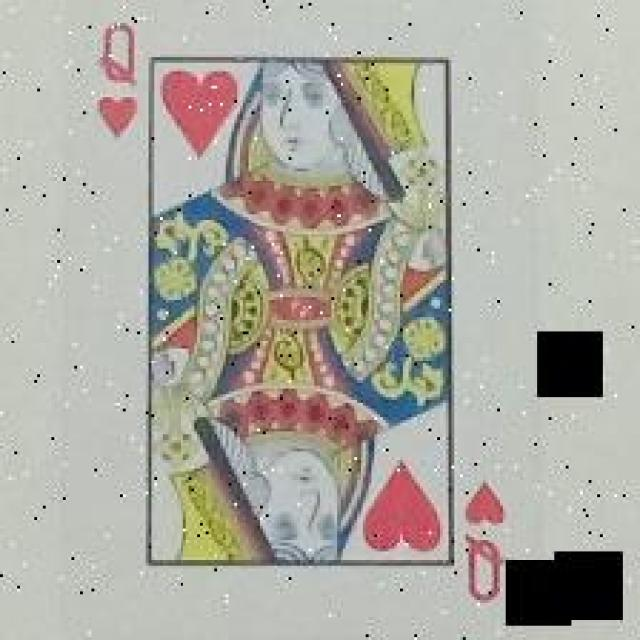Queen of hearts: (76, 17, 514, 616)
